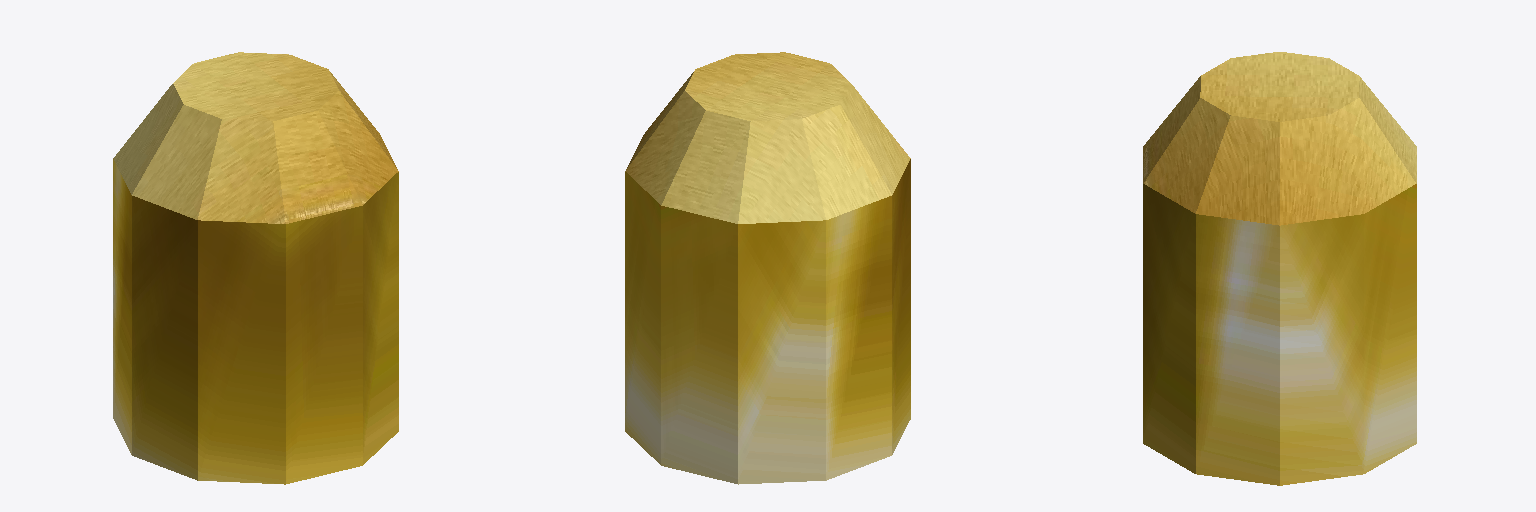
3 renders of one model, left to right at view 1: azimuth 30°, elevation 25°; view 2: azimuth 150°, elevation 25°; view 3: azimuth 270°, elevation 25°, orthographic.
Bounding box in the file's own units: 0.3046 × 0.3961 × 0.2898.
2 materials, 2 textured.